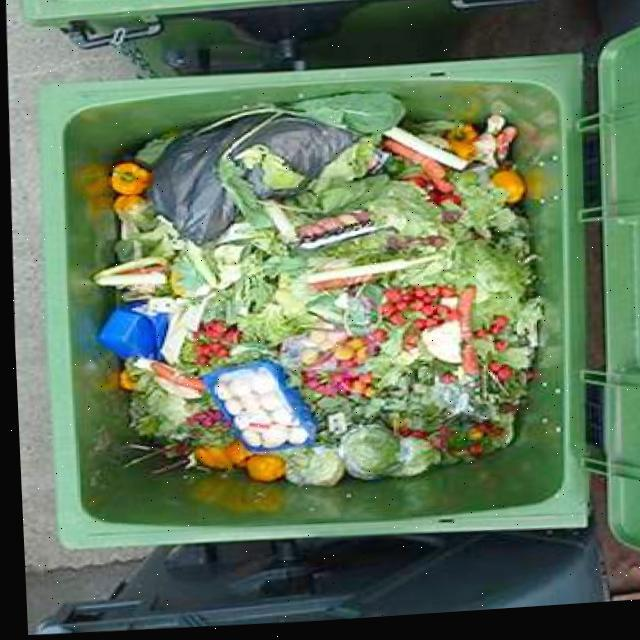Garbage: (89, 95, 537, 489)
Plastic_Bag: (151, 115, 268, 247), (231, 119, 355, 183)
